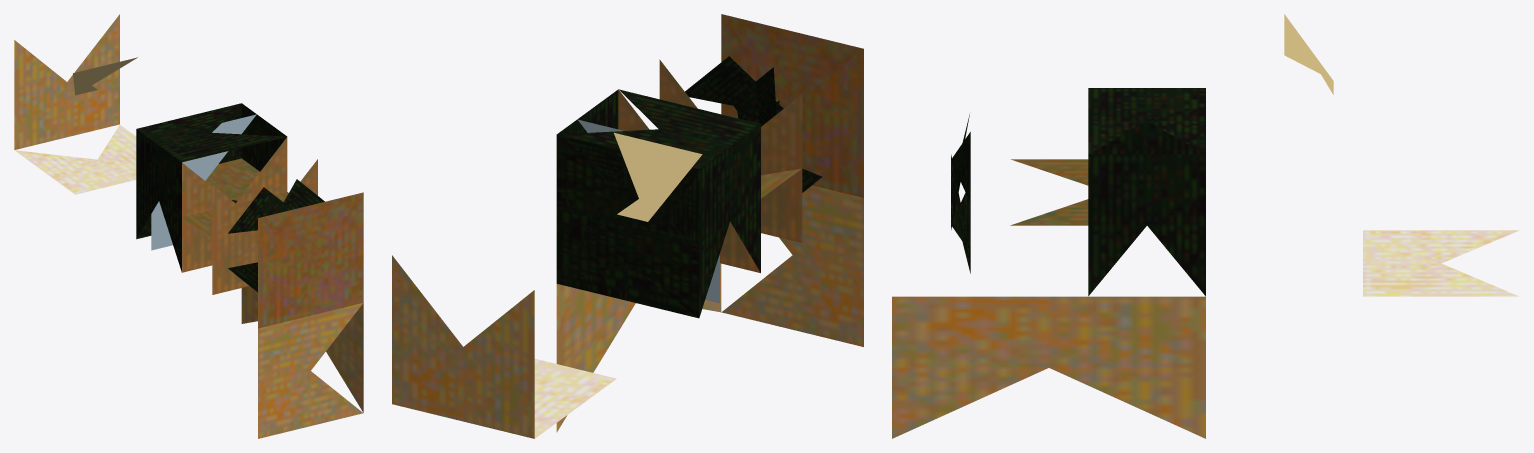
File: town_geometry_type_33.obj
The picture shows the model from 3 angles, left to right: view 1: azimuth 30°, elevation 25°; view 2: azimuth 150°, elevation 25°; view 3: azimuth 270°, elevation 25°; orthographic projection. The views are drawn at different scales.
Parts seen in each view (by area): view 1: face_list_037, face_list_000, face_list_029, face_list_007, face_list_010, face_list_017, face_list_039, face_list_023, face_list_040, face_list_013, face_list_012, face_list_019 (+4 smaller); view 2: face_list_037, face_list_029, face_list_023, face_list_017, face_list_000, face_list_013, face_list_010, face_list_007, face_list_040, face_list_014, face_list_022, face_list_019 (+5 smaller); view 3: face_list_037, face_list_019, face_list_023, face_list_013, face_list_017, face_list_014, face_list_015, face_list_022.
Boxes of the visible parts, box(x1,y1,x2,y2) form: face_list_037: box(15, 125, 363, 438); face_list_000: box(258, 193, 363, 328); face_list_029: box(14, 14, 119, 149); face_list_007: box(258, 192, 363, 301); face_list_010: box(258, 192, 363, 327); face_list_017: box(136, 129, 181, 272); face_list_039: box(182, 137, 287, 272); face_list_023: box(137, 103, 286, 162); face_list_040: box(212, 159, 317, 294); face_list_013: box(136, 158, 288, 239); face_list_012: box(151, 114, 256, 250); face_list_019: box(225, 103, 287, 200); face_list_037: box(534, 185, 863, 438); face_list_029: box(392, 255, 534, 438); face_list_023: box(556, 89, 760, 242); face_list_017: box(628, 124, 760, 318); face_list_000: box(721, 15, 863, 197); face_list_013: box(556, 168, 801, 317); face_list_010: box(722, 14, 863, 196); face_list_007: box(721, 14, 863, 117); face_list_040: box(659, 59, 802, 242); face_list_014: box(614, 132, 702, 221); face_list_022: box(559, 100, 822, 243); face_list_019: box(557, 90, 627, 300); face_list_037: box(892, 230, 1519, 438); face_list_019: box(1088, 154, 1205, 296); face_list_023: box(1088, 88, 1205, 153); face_list_013: box(1010, 159, 1088, 225); face_list_017: box(1089, 121, 1205, 154); face_list_014: box(1284, 14, 1333, 94); face_list_015: box(951, 132, 970, 229); face_list_022: box(951, 154, 970, 247).
Bounding box in the file's own units: 84 × 152 × 256.
14 materials, 14 textured.
